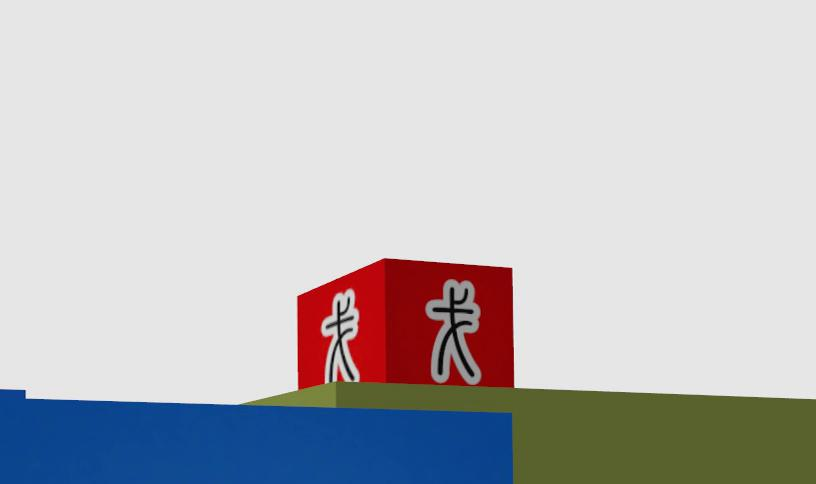KFS_FAKE: (297, 259, 513, 388), (426, 279, 480, 384), (321, 289, 359, 381)
KFS_REAL: (0, 400, 512, 484), (0, 390, 24, 398)
